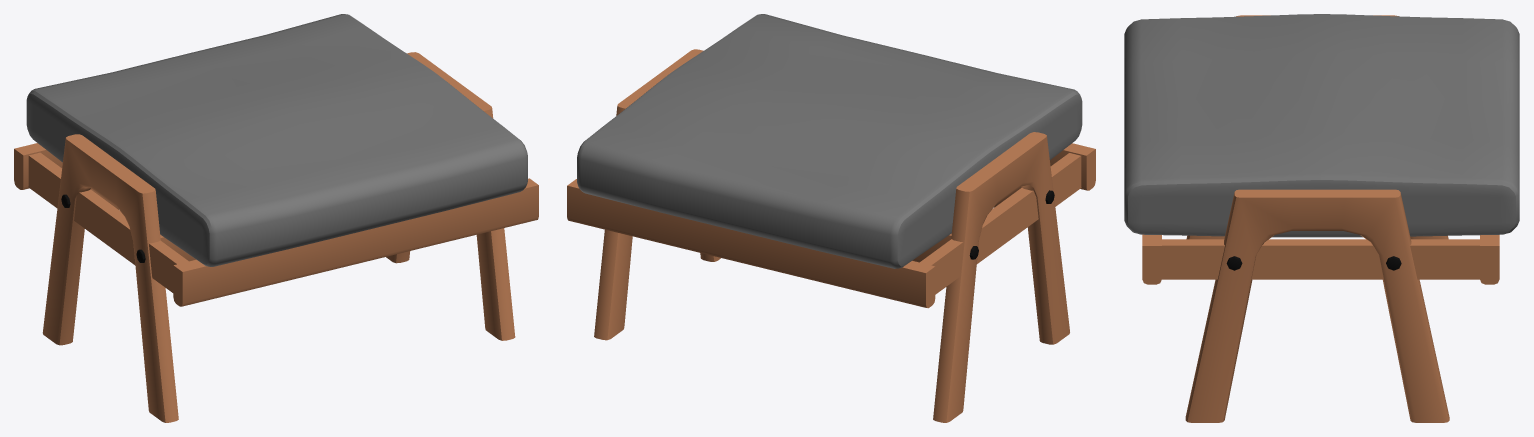
Rendered from Chair_Stool_02.glb.
3 renders of one model, left to right at view 1: azimuth 30°, elevation 25°; view 2: azimuth 150°, elevation 25°; view 3: azimuth 270°, elevation 25°, orthographic. The views are drawn at different scales.
Visible parts, largest first — view 1: Mesh_Chair_Stool_02; view 2: Mesh_Chair_Stool_02; view 3: Mesh_Chair_Stool_02.
Boxes of the visible parts, x1,y1,x2,y2 form: Mesh_Chair_Stool_02: [14, 14, 538, 422]; Mesh_Chair_Stool_02: [567, 14, 1095, 422]; Mesh_Chair_Stool_02: [1124, 14, 1519, 422].
Size of the model in its own units: 0.5594 by 0.3408 by 0.5047.
Materials: 1 (1 with a texture image).
